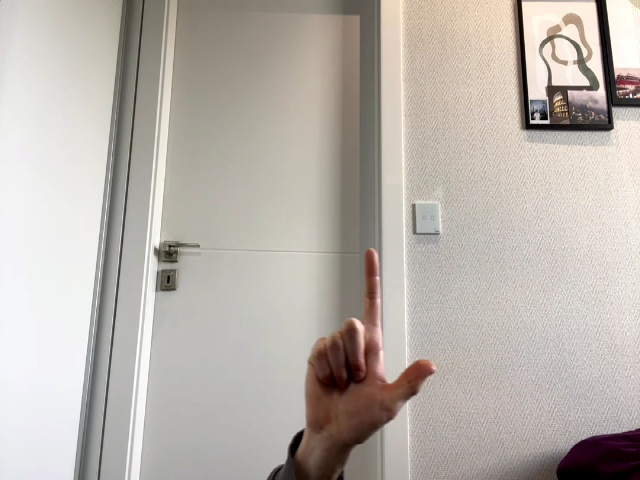L: (304, 249, 437, 446)
